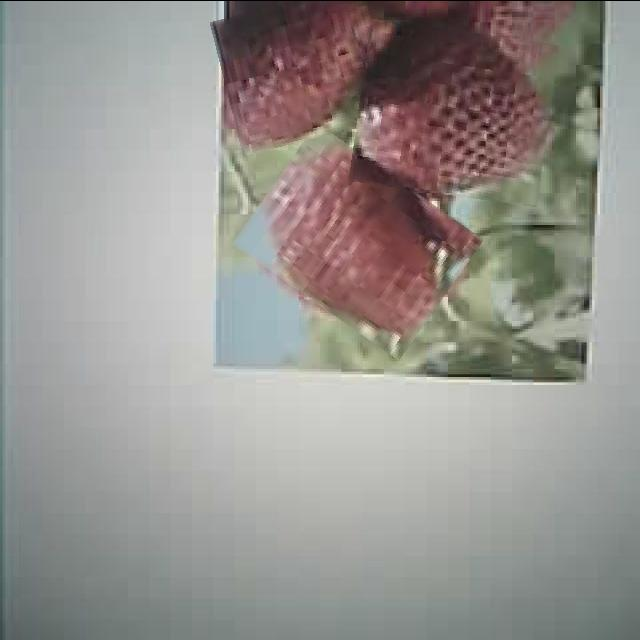strawberry: (244, 145, 472, 338), (354, 24, 554, 200), (217, 0, 389, 146)
